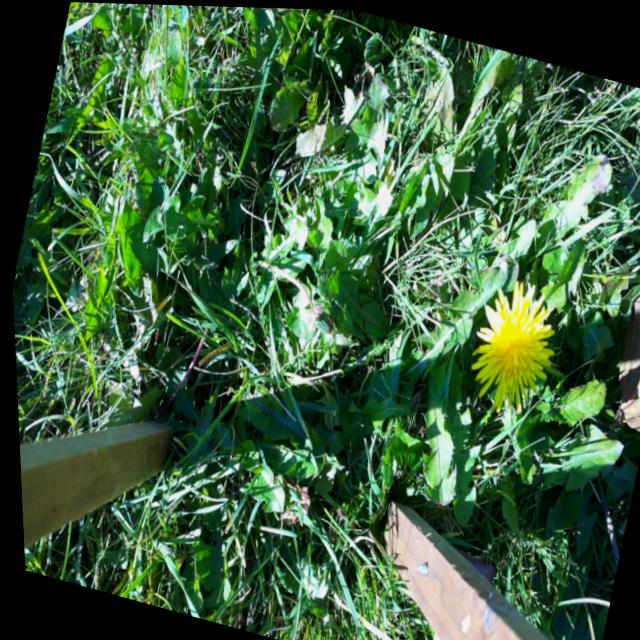base: (552, 364, 577, 398)
